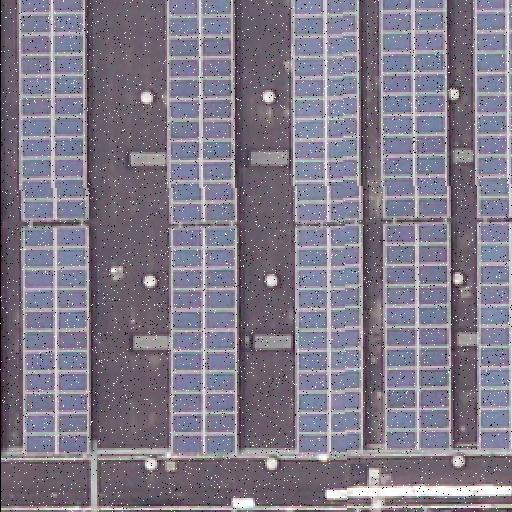solar-panel: (166, 0, 238, 224), (169, 225, 239, 455), (381, 221, 451, 451), (293, 226, 363, 454), (20, 225, 88, 455), (381, 0, 451, 220), (292, 0, 360, 224), (18, 0, 86, 220), (473, 0, 511, 218), (480, 221, 512, 451), (383, 505, 449, 511), (298, 508, 362, 512)
